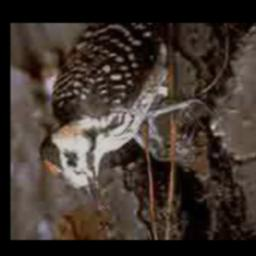Woodpecker: (41, 27, 201, 221)
